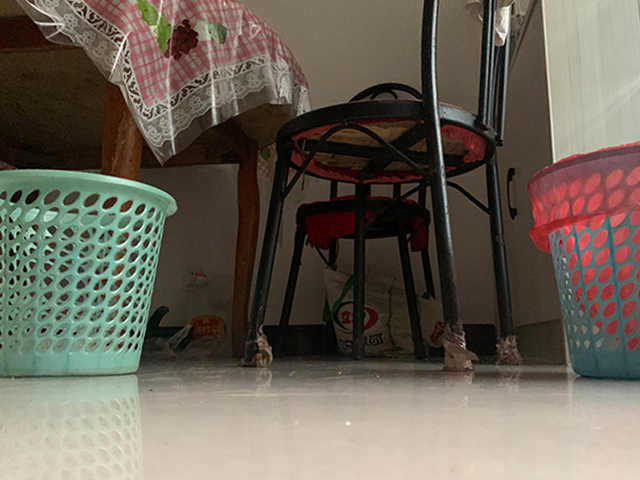stool: (237, 1, 523, 370), (273, 179, 441, 361)
table: (1, 1, 311, 361)
trashcan: (1, 169, 178, 377), (527, 141, 640, 380)
